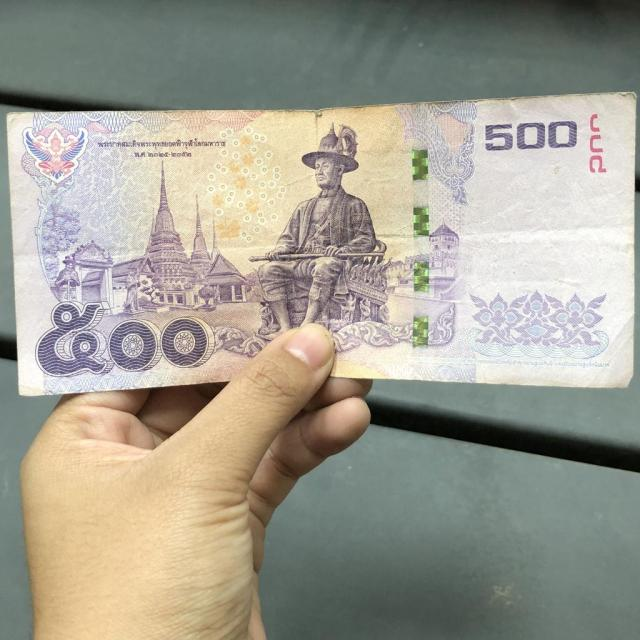THAI500: (4, 92, 636, 398)
